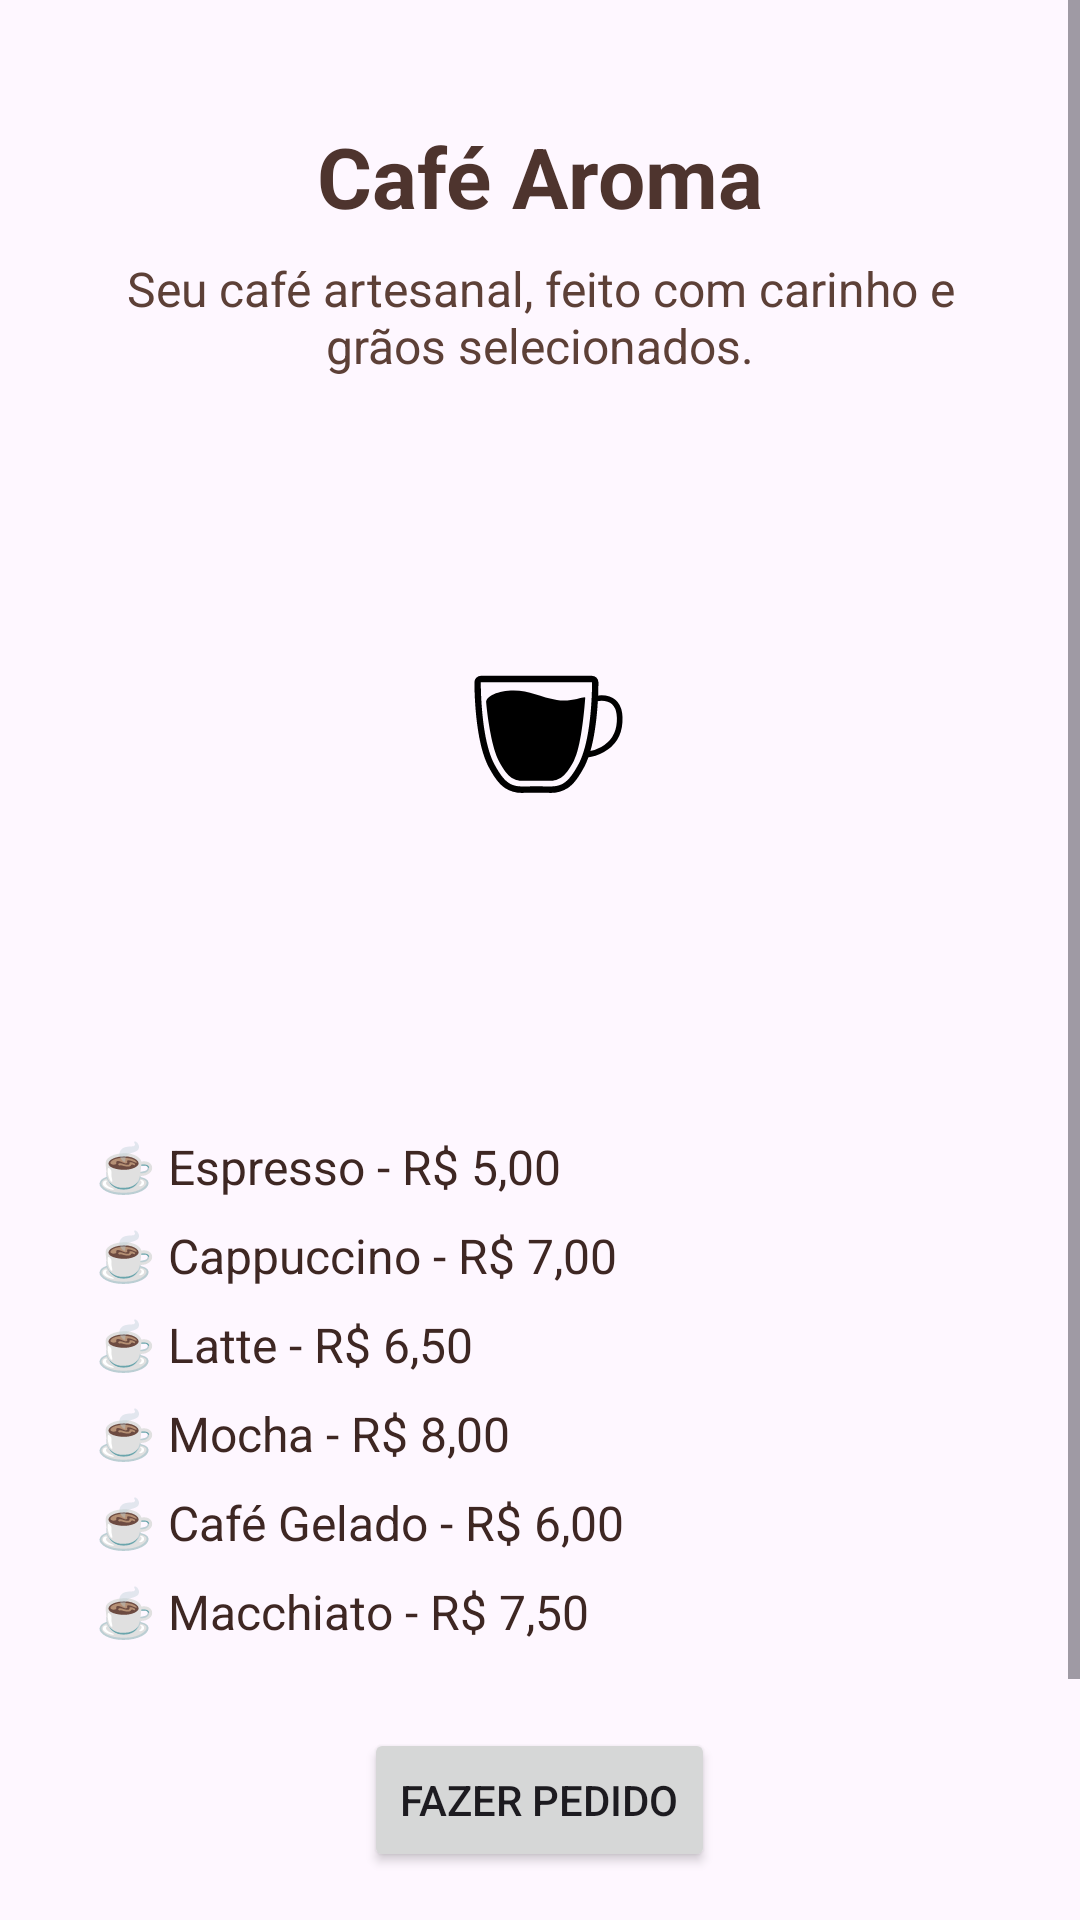

Point at icon controls on the screen. Image size 1080 x 1920, points as point (x, y).
full mug drink: point (548, 734)
